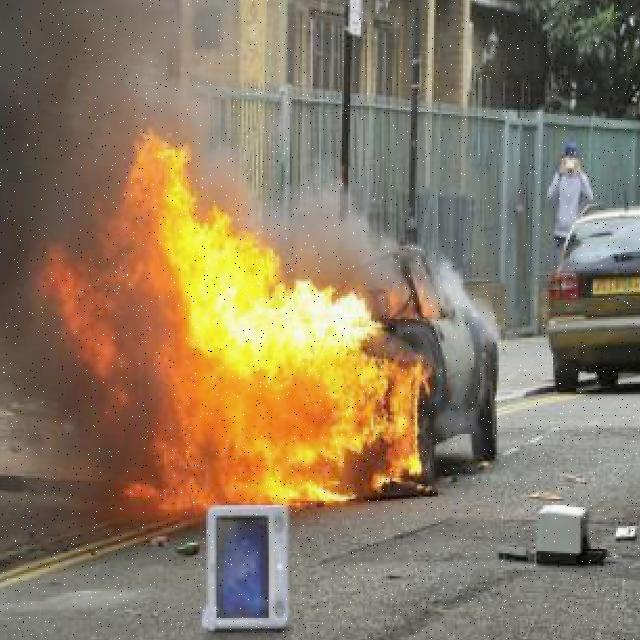fire: (110, 256, 418, 509), (112, 128, 269, 252), (429, 234, 507, 353)
